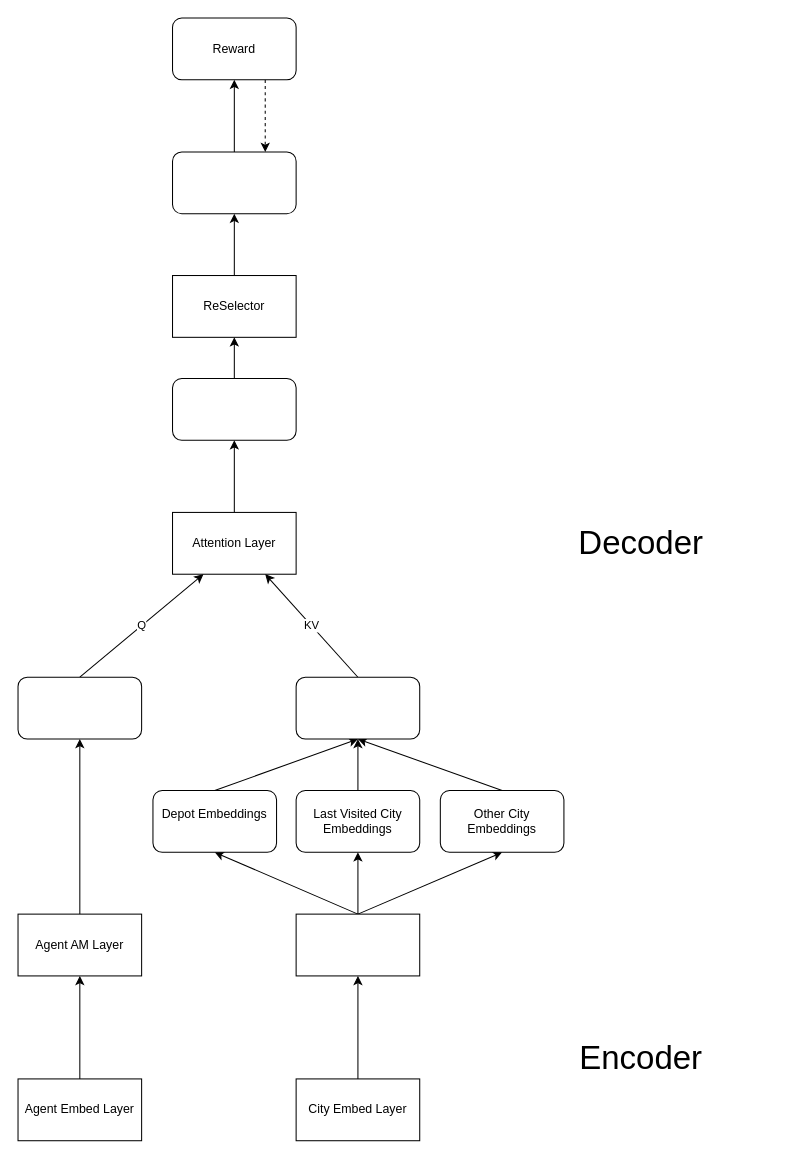
The diagram is 809 pixels wide and 1159 high, and some of its shapes have lost their labels. Each missing label, with the box of its shape:
Actions: (171, 377, 296, 440)
Agent Embeddings: (17, 676, 142, 739)
City AM Layer: (295, 913, 420, 976)
City Embeddings: (295, 676, 420, 739)
Final Actions: (171, 151, 296, 214)
